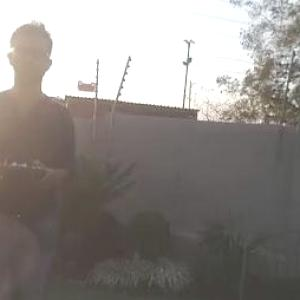follow: (0, 11, 79, 298)
